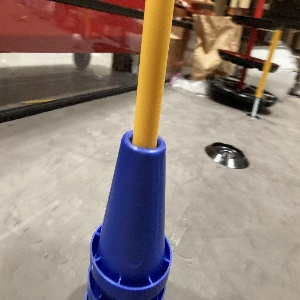Blue_3: (84, 131, 172, 299)
